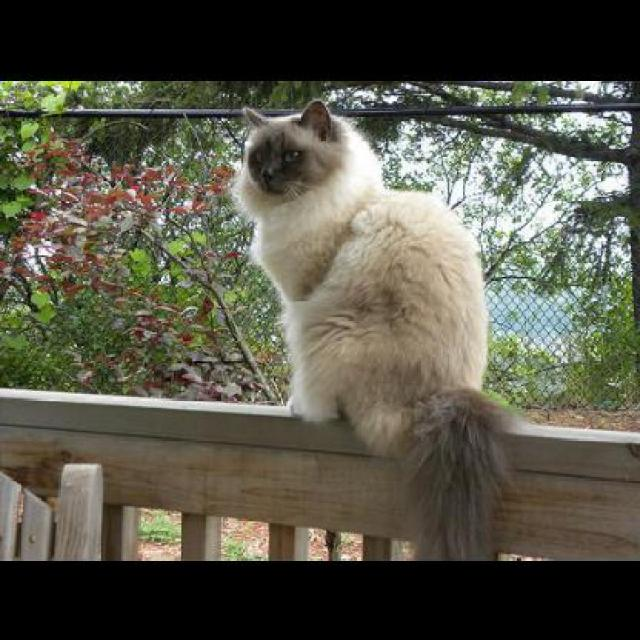unauthorized: (228, 97, 520, 558)
